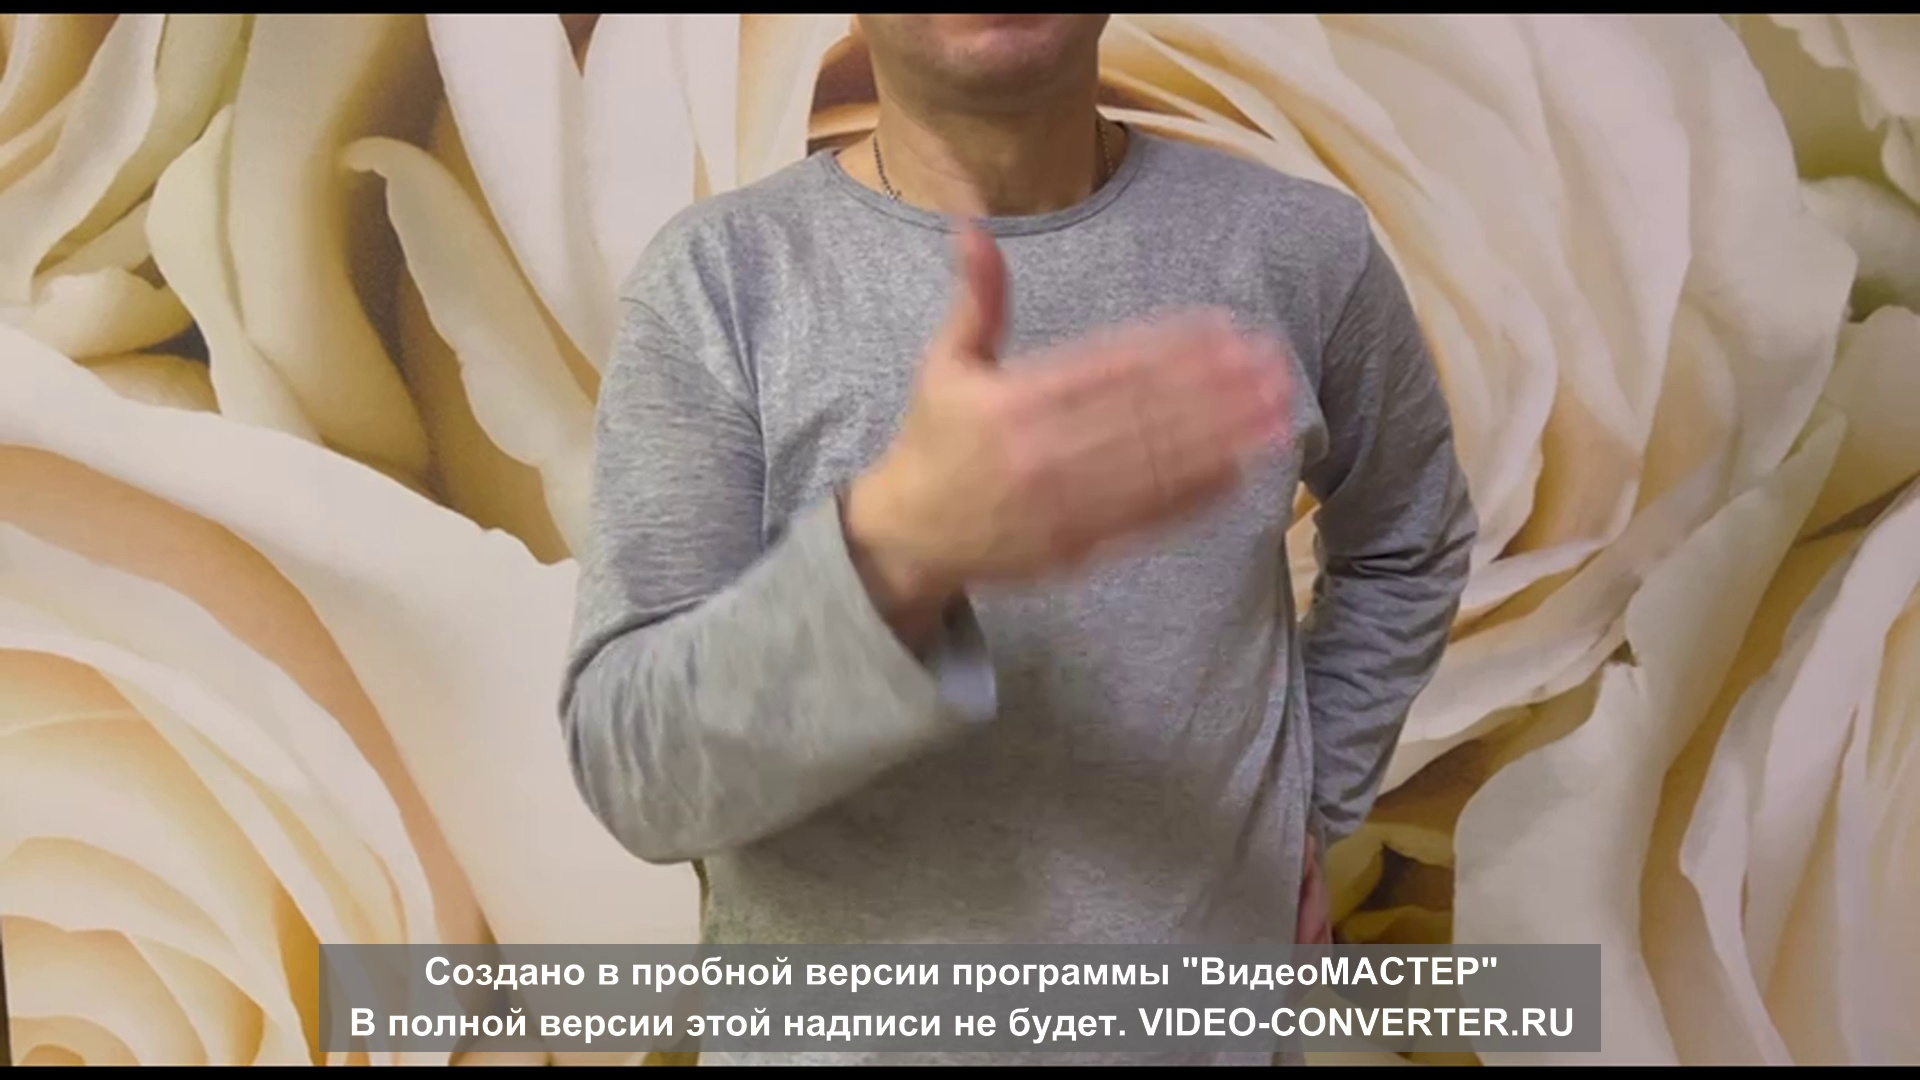Кисть: (910, 225, 1291, 580)
